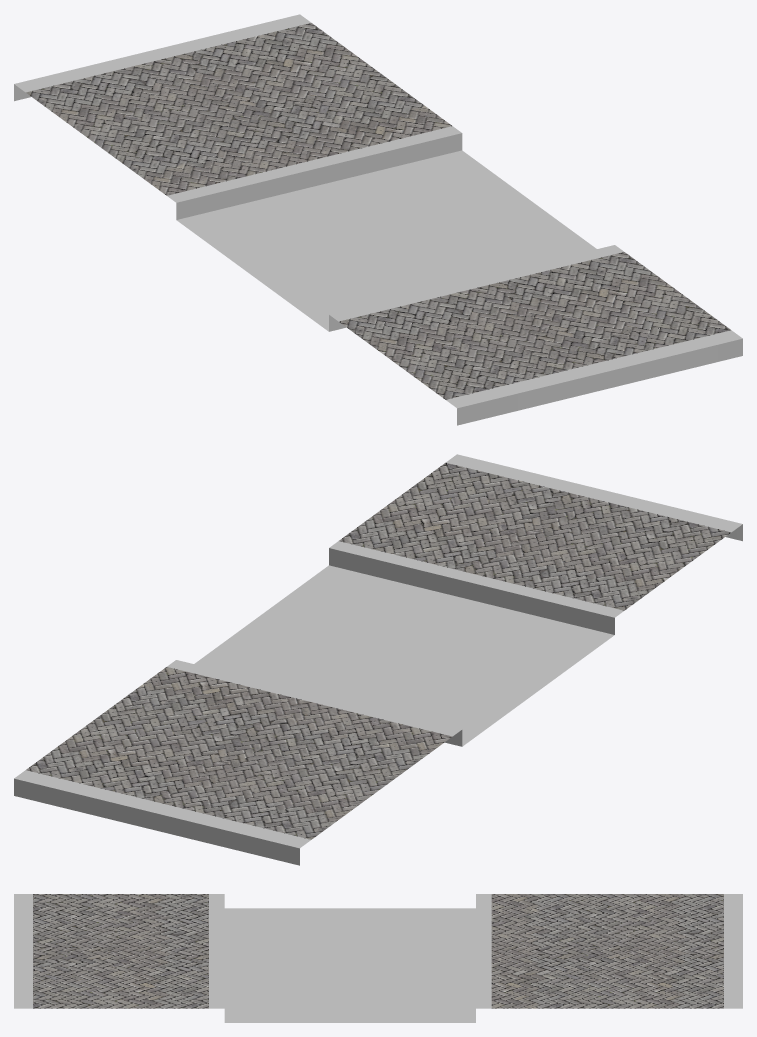
File: Footpath1.fbx
The picture shows the model from 3 angles, top to bottom: view 1: azimuth 30°, elevation 25°; view 2: azimuth 150°, elevation 25°; view 3: azimuth 270°, elevation 25°; orthographic projection. The views are drawn at different scales.
Visible parts, largest first — view 1: Footpath01; view 2: Footpath01; view 3: Footpath01.
Part boxes in pixels (bbox=[...]): Footpath01: bbox=[14, 14, 742, 425]; Footpath01: bbox=[14, 454, 742, 865]; Footpath01: bbox=[14, 894, 742, 1022].
Bounding box in the file's own units: 432 × 25 × 1161.
